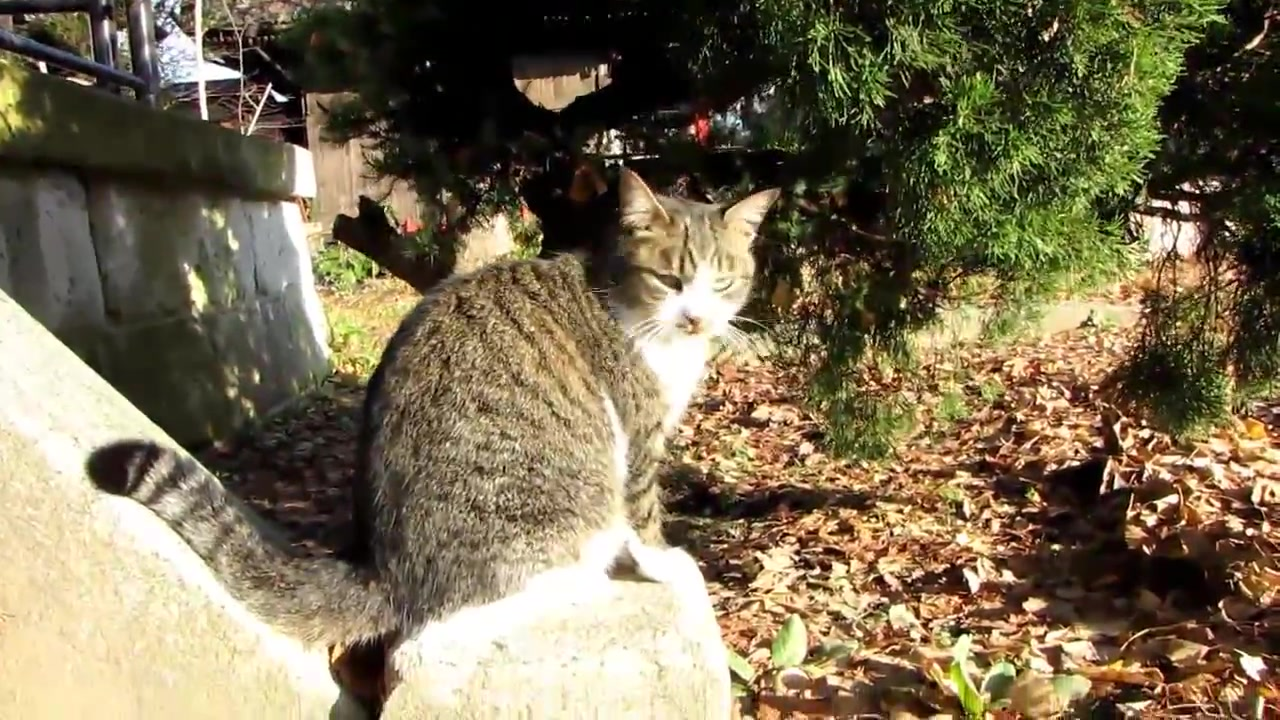cat: (89, 162, 785, 651)
